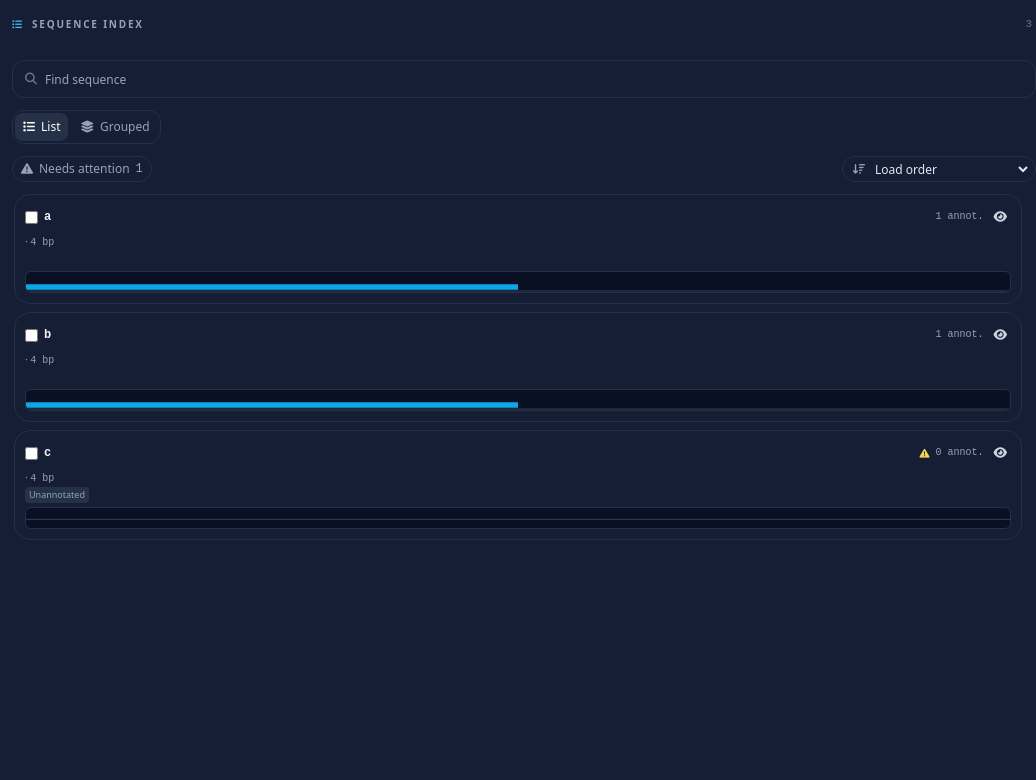
it: HubIndex › lists each record once and routes the visibility eye
Expected: the number of buttons named "Jump to sequence" is 3, [44,209,930,225]; [44,327,930,343]; [44,445,914,461]
What coordinates should you click on to do the following:
click the button named "Hide a in hub"
I would click on:
 (1000, 217)
Its box is [990,205,1011,229].
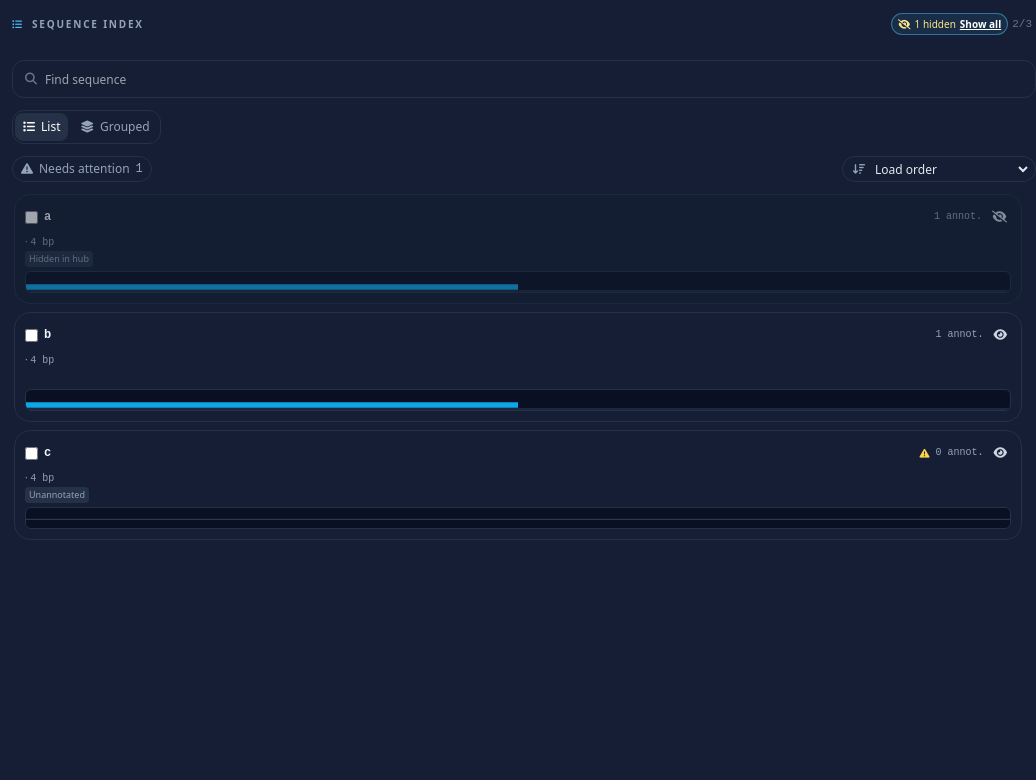
Expected: the button named "Show a in hub" is shown, [988,205,1011,229]
